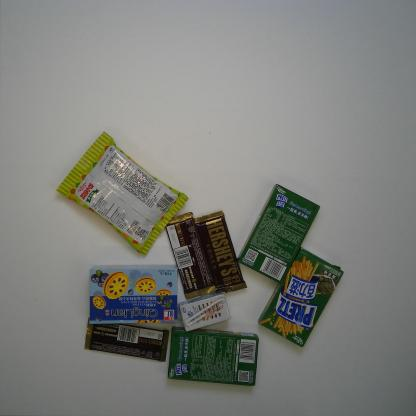Chocolate: (162, 210, 216, 302), (193, 210, 248, 296), (83, 314, 169, 362)
Dessert: (258, 245, 344, 349), (236, 182, 322, 283), (166, 325, 260, 388), (87, 264, 179, 327)
Milk: (178, 290, 232, 332)
Puffed Food: (55, 130, 189, 256)
